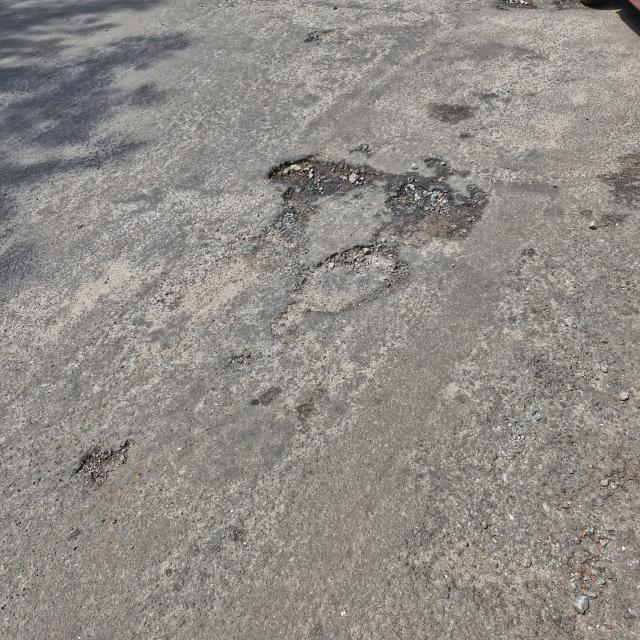pothole: (376, 158, 492, 238), (551, 512, 626, 628), (303, 241, 412, 311), (265, 148, 374, 208), (68, 428, 142, 489), (248, 210, 312, 263), (296, 380, 334, 430), (603, 142, 640, 188), (268, 298, 309, 338), (425, 99, 478, 123), (306, 22, 352, 49), (245, 381, 282, 406), (226, 344, 252, 372)
